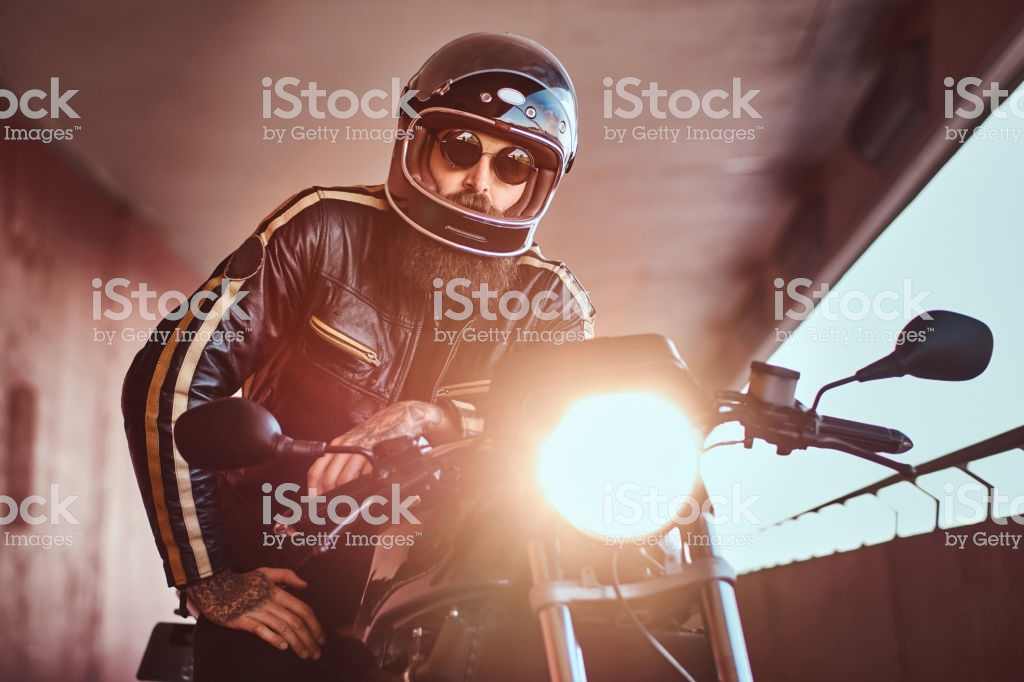helmet: (397, 33, 591, 276)
